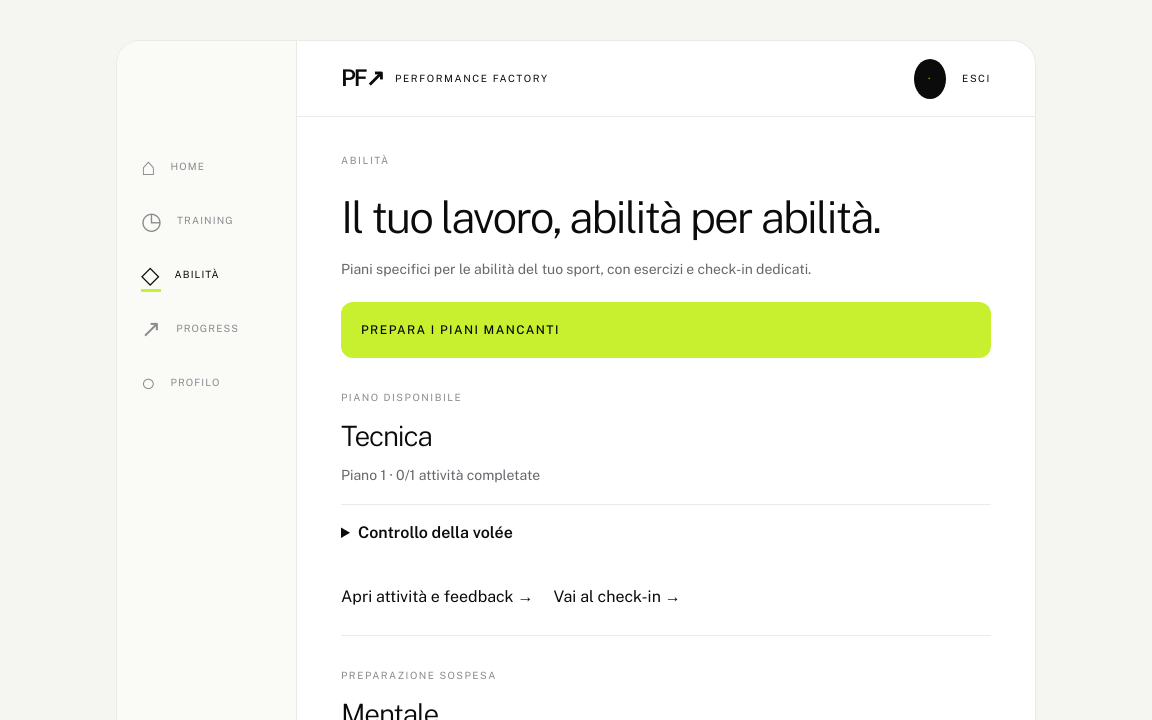
Test: requests only missing plans and explains failures without exposing internal codes
The width and height of the screenshot is (1152, 720).
Click the button "Prepara i piani mancanti": (460, 330) left=341, top=302, right=991, bottom=358
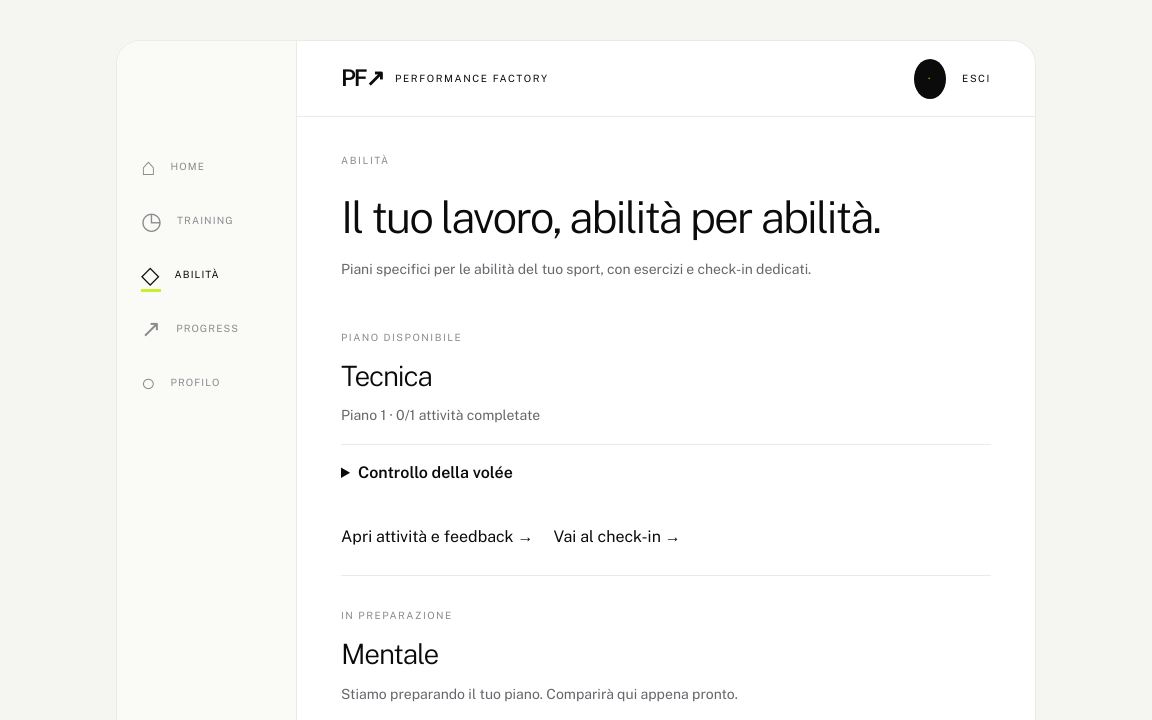
Expected: the heading "Controllo della volée" is shown, left=358, top=464, right=513, bottom=482
Expected: the text "Stiamo preparando il tuo piano. Comparirà qui appena pronto." is shown, left=341, top=686, right=738, bottom=702
